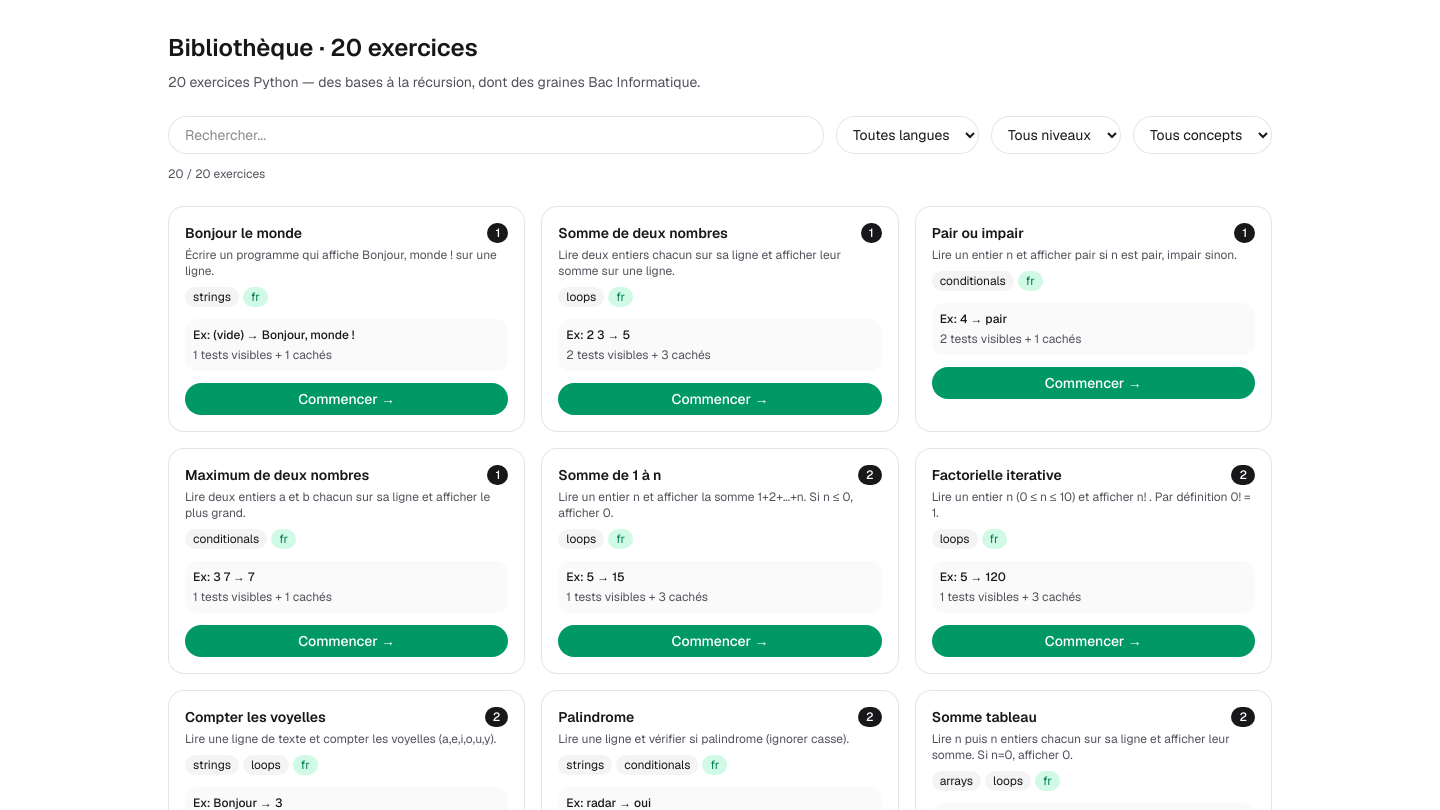
it: LibraryClient › shows no results when filter mismatches
The width and height of the screenshot is (1440, 810).
Type "zzzz_not_exist" into the field with test id "library-search" at (496, 135), box [168,116,824,154]
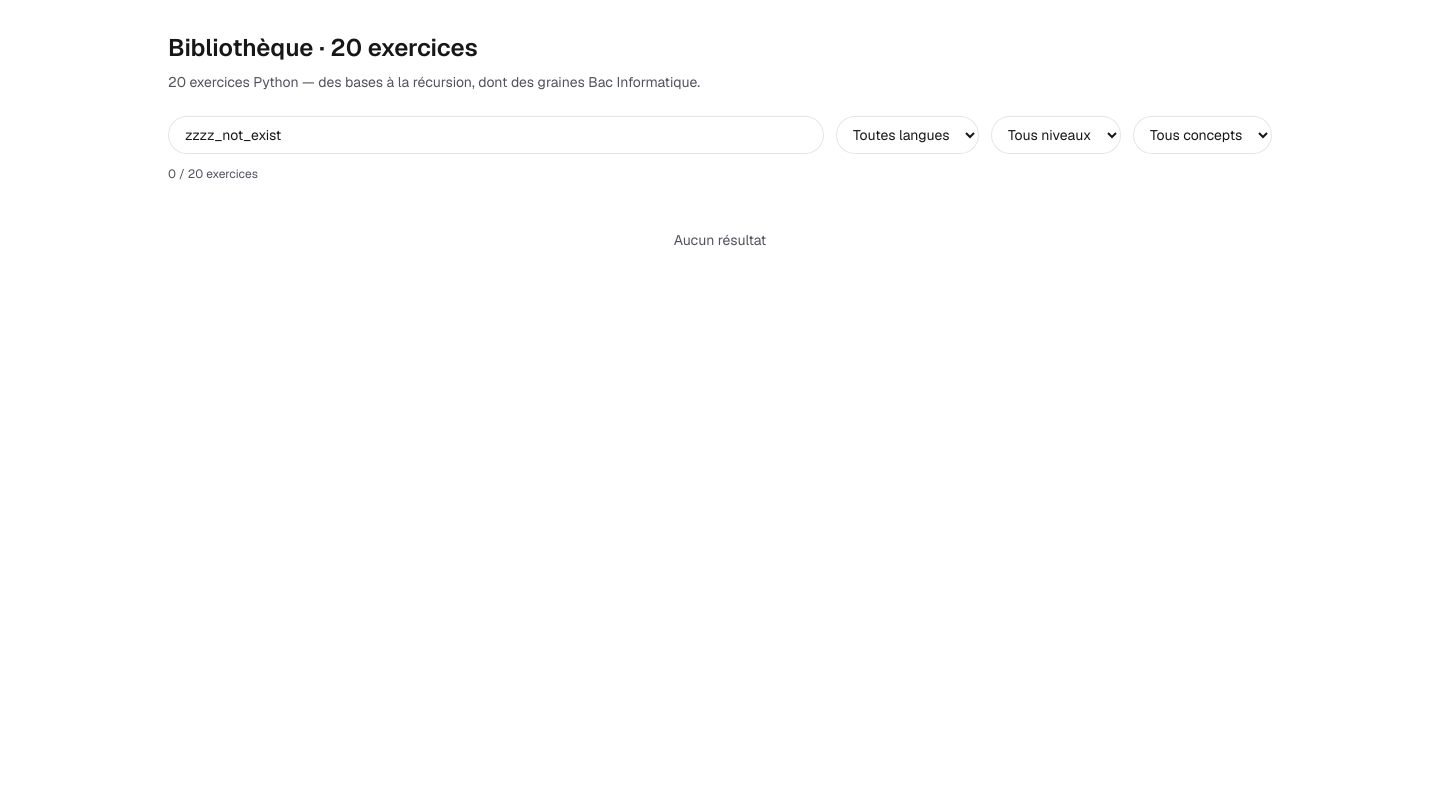
Expected: the text "Aucun résultat" is shown, [674,231,766,249]
